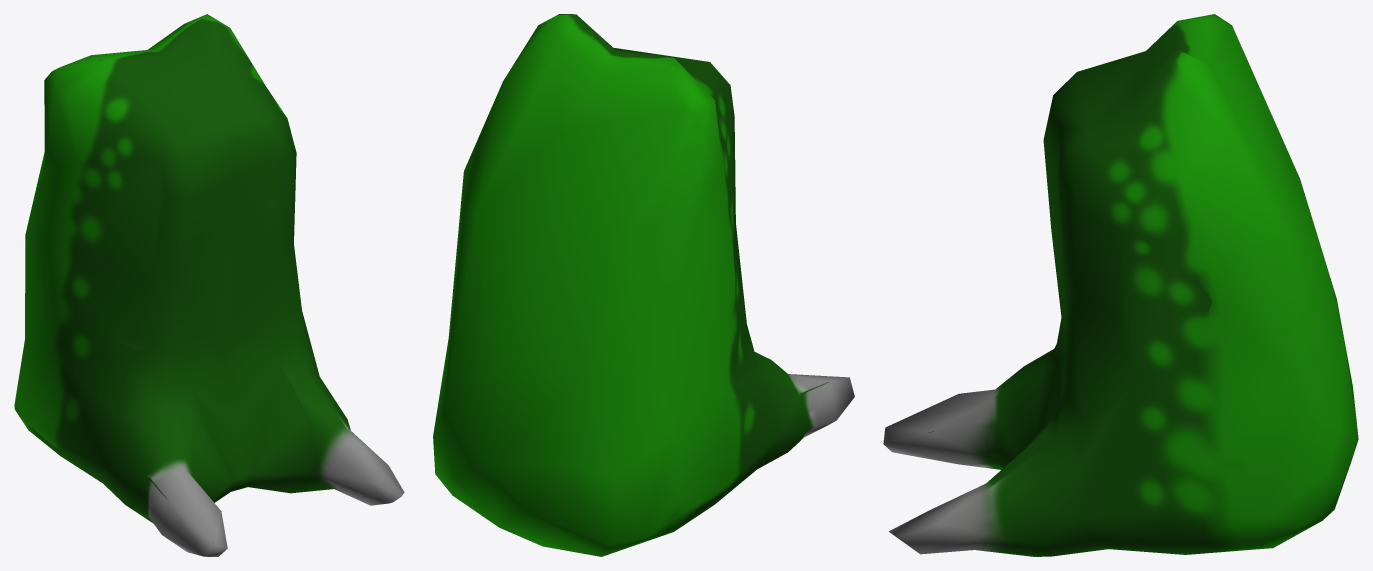
Rendered from pies2I.fbx.
The picture shows the model from 3 angles, left to right: view 1: azimuth 30°, elevation 25°; view 2: azimuth 150°, elevation 25°; view 3: azimuth 270°, elevation 25°; orthographic projection. The views are drawn at different scales.
Visible parts, largest first — view 1: Pies2I; view 2: Pies2I; view 3: Pies2I.
Boxes of the visible parts, left/top/right/bottom form: Pies2I: left=14, top=14, right=404, bottom=556; Pies2I: left=433, top=14, right=854, bottom=556; Pies2I: left=883, top=14, right=1358, bottom=556.
Bounding box in the file's own units: 22.78 × 38.63 × 34.53.
